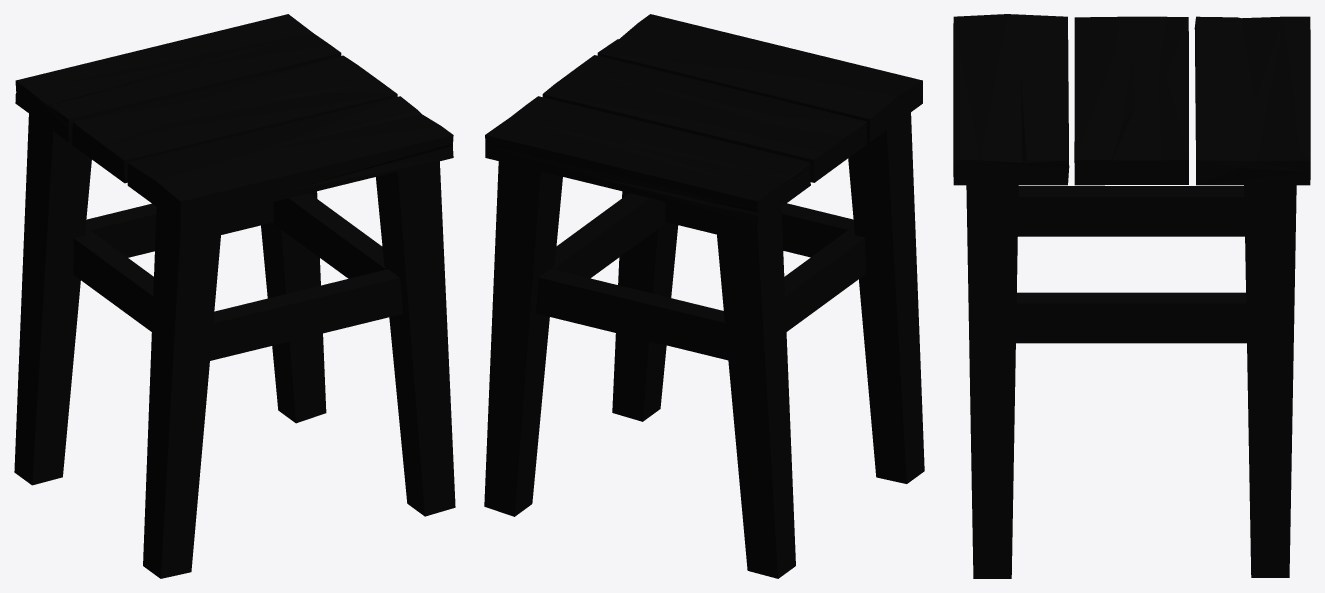
Rendered from SM_Stool_1.obj.
3 views of the same model, side by side, from view 1: azimuth 30°, elevation 25°; view 2: azimuth 150°, elevation 25°; view 3: azimuth 270°, elevation 25° (orthographic). The views are drawn at different scales.
Visible parts, largest first — view 1: SM_Stool_1_M_Texture_Atlas; view 2: SM_Stool_1_M_Texture_Atlas; view 3: SM_Stool_1_M_Texture_Atlas.
Part boxes in pixels (x1,y1,x2,y2): SM_Stool_1_M_Texture_Atlas: (14,14,455,578); SM_Stool_1_M_Texture_Atlas: (484,14,924,578); SM_Stool_1_M_Texture_Atlas: (953,14,1310,578).
Size of the model in its own units: 0.6711 by 0.8417 by 0.6525.
